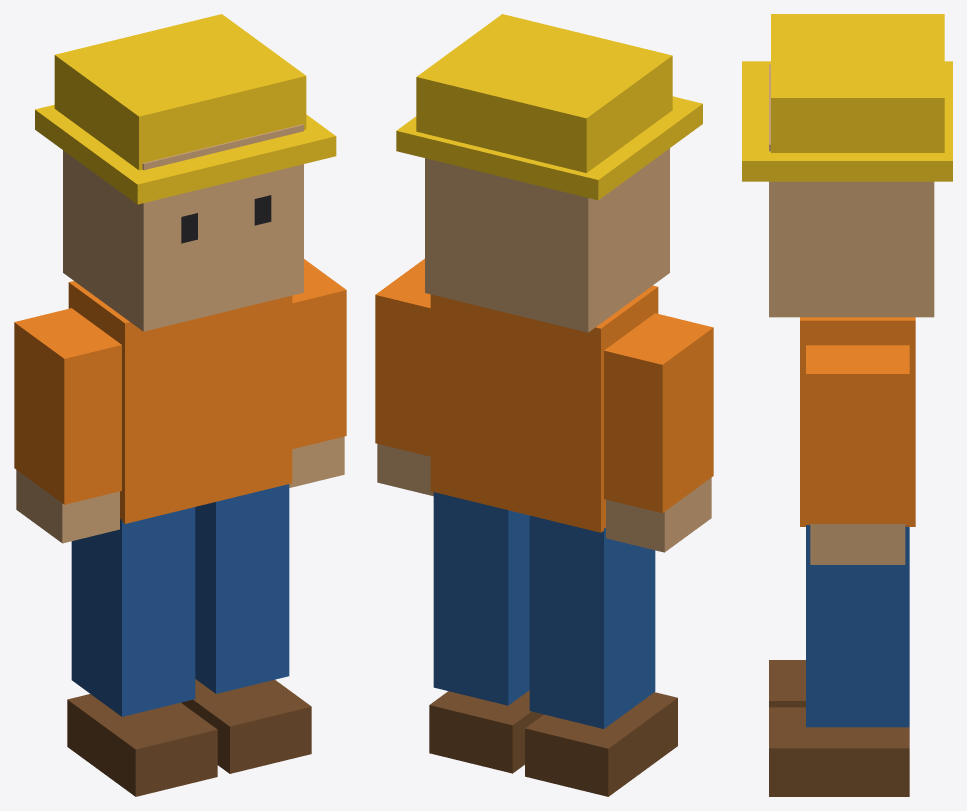
Rendered from Constructor.fbx.
The picture shows the model from 3 angles, left to right: view 1: azimuth 30°, elevation 25°; view 2: azimuth 150°, elevation 25°; view 3: azimuth 270°, elevation 25°; orthographic projection. The views are drawn at different scales.
Parts seen in each view (by area): view 1: Cuerpo, Cabeza, Casco_Copa, Pantalon_L, Manga_L, Pantalon_R, Zapato_L, Casco_Ala, Manga_R, Zapato_R, Mano_L, Mano_R; view 2: Cuerpo, Cabeza, Casco_Copa, Pantalon_L, Manga_L, Pantalon_R, Zapato_L, Manga_R, Casco_Ala, Zapato_R, Mano_L, Mano_R; view 3: Casco_Copa, Cabeza, Manga_R, Pantalon_R, Zapato_R, Casco_Ala, Cuerpo, Mano_R, Zapato_L.
Boxes of the visible parts, box(x1,y1,x2,y2) form: Cuerpo: box(68, 281, 292, 523); Cabeza: box(63, 124, 303, 331); Casco_Copa: box(54, 14, 306, 170); Pantalon_L: box(71, 507, 195, 716); Manga_L: box(14, 308, 121, 504); Pantalon_R: box(195, 484, 289, 693); Zapato_L: box(67, 694, 217, 796); Casco_Ala: box(35, 104, 336, 204); Manga_R: box(292, 259, 346, 448); Zapato_R: box(181, 679, 311, 773); Mano_L: box(16, 470, 119, 543); Mano_R: box(289, 436, 344, 487); Cuerpo: box(430, 285, 658, 532); Cabeza: box(425, 148, 669, 332); Casco_Copa: box(416, 14, 672, 172); Pantalon_L: box(529, 515, 655, 728); Manga_L: box(604, 313, 713, 513); Pantalon_R: box(433, 492, 529, 705); Zapato_L: box(525, 692, 677, 796); Manga_R: box(375, 258, 430, 456); Casco_Ala: box(396, 96, 702, 200); Zapato_R: box(429, 690, 543, 773); Mano_L: box(606, 477, 711, 552); Mano_R: box(377, 444, 433, 496); Casco_Copa: box(771, 14, 944, 152); Cabeza: box(769, 64, 934, 317); Manga_R: box(806, 345, 909, 523); Pantalon_R: box(806, 525, 909, 727); Zapato_R: box(769, 707, 909, 796); Casco_Ala: box(742, 61, 952, 181); Cuerpo: box(800, 317, 915, 526); Mano_R: box(810, 524, 905, 564); Zapato_L: box(769, 660, 805, 707).
Size of the model in its own units: 0.81 by 1.86 by 0.51.
